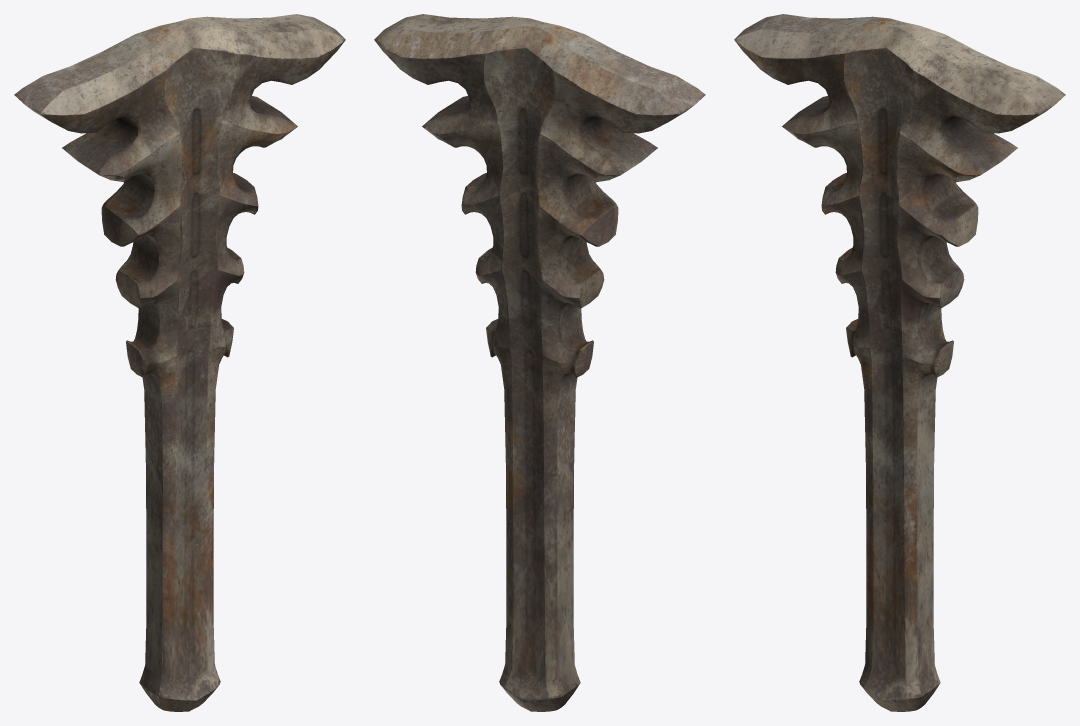
Rendered from wm_gundabad_mace_b02_blade.fbx.
3 renders of one model, left to right at view 1: azimuth 30°, elevation 25°; view 2: azimuth 150°, elevation 25°; view 3: azimuth 330°, elevation 25°, orthographic.
Visible parts, largest first — view 1: wm_gundabad_mace_b02_blade; view 2: wm_gundabad_mace_b02_blade; view 3: wm_gundabad_mace_b02_blade.
Boxes of the visible parts, x1,y1,x2,y2 form: wm_gundabad_mace_b02_blade: (14, 14, 345, 711); wm_gundabad_mace_b02_blade: (374, 14, 705, 711); wm_gundabad_mace_b02_blade: (734, 14, 1065, 711).
Size of the model in its own units: 0.4127 by 0.0972 by 0.8667.
1 material, 1 textured.
